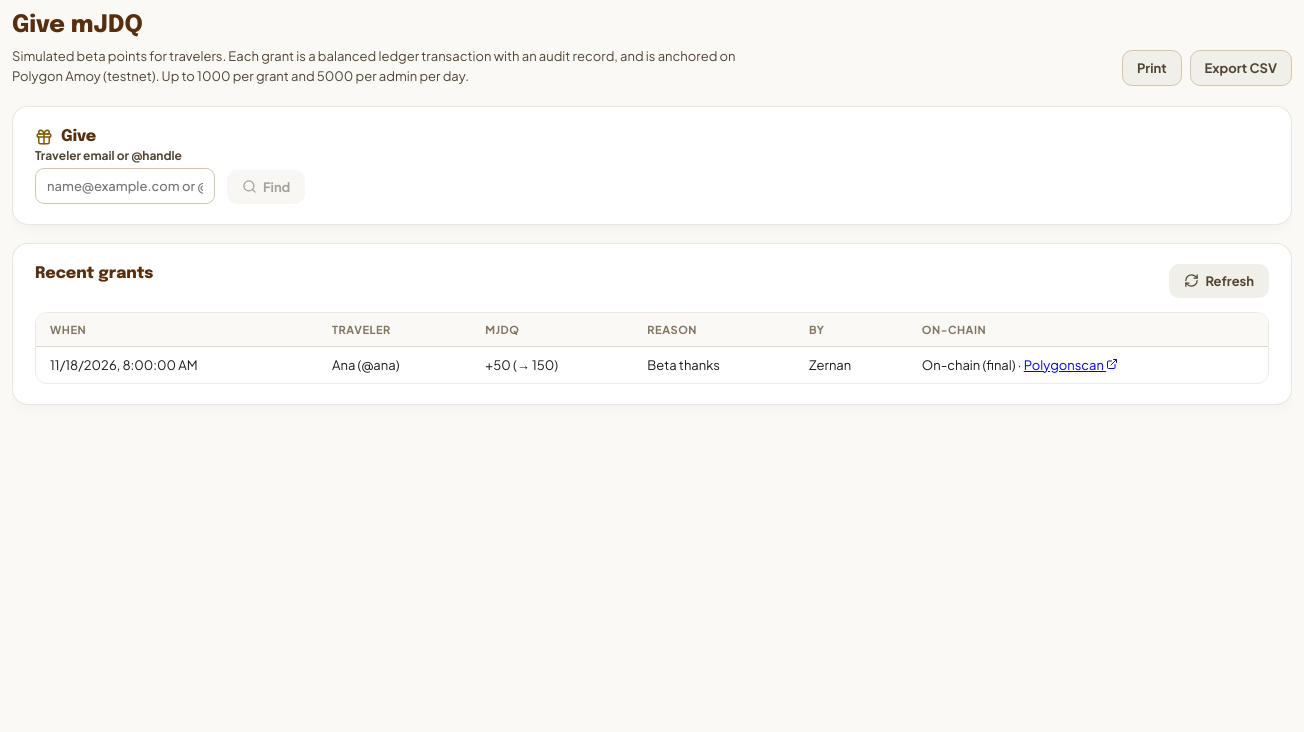
Give mJDQ › finds a traveler, validates the amount and posts the grant
Expected: the text "On-chain (final)" is shown, [922,357,1016,373]
Type "ana@example.com" into the field labelled "Traveler email or @handle".
click(125, 186); type("ana@example.com")  # box [35,168,215,204]
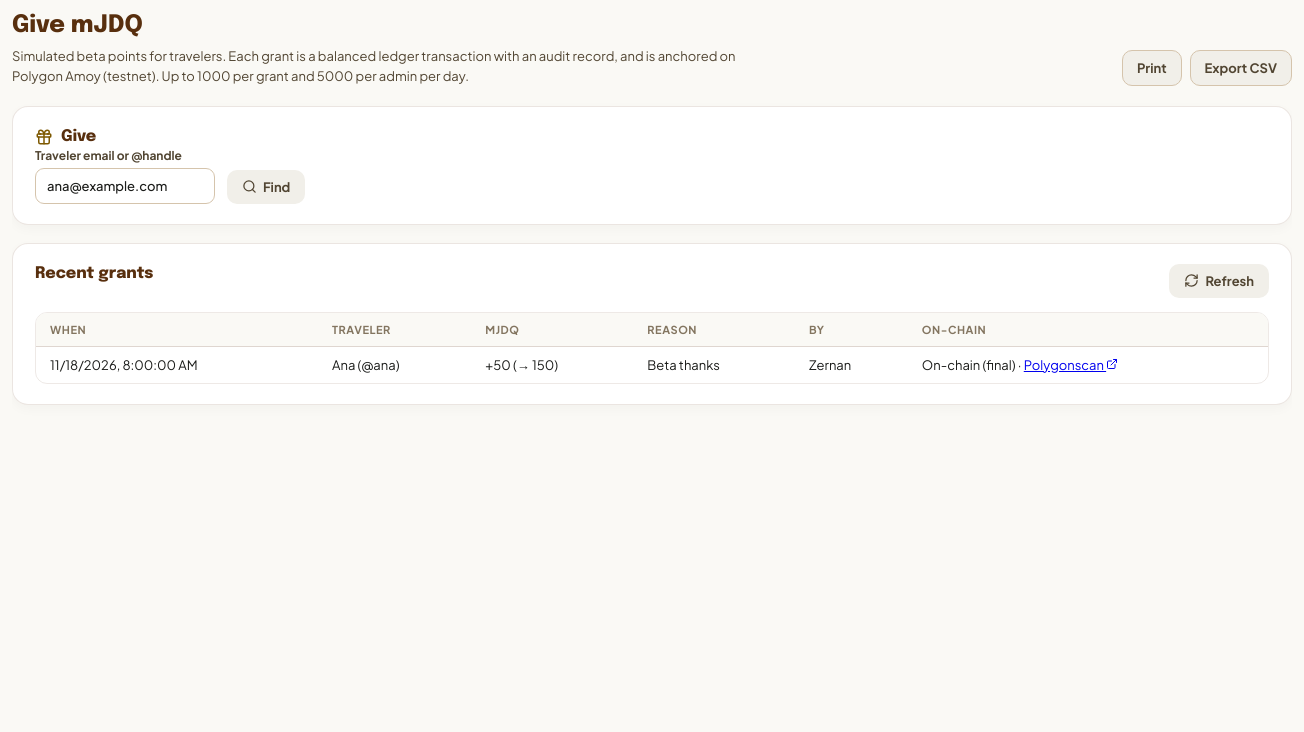
Click the button "Find".
click(266, 187)  # box [227,170,305,204]
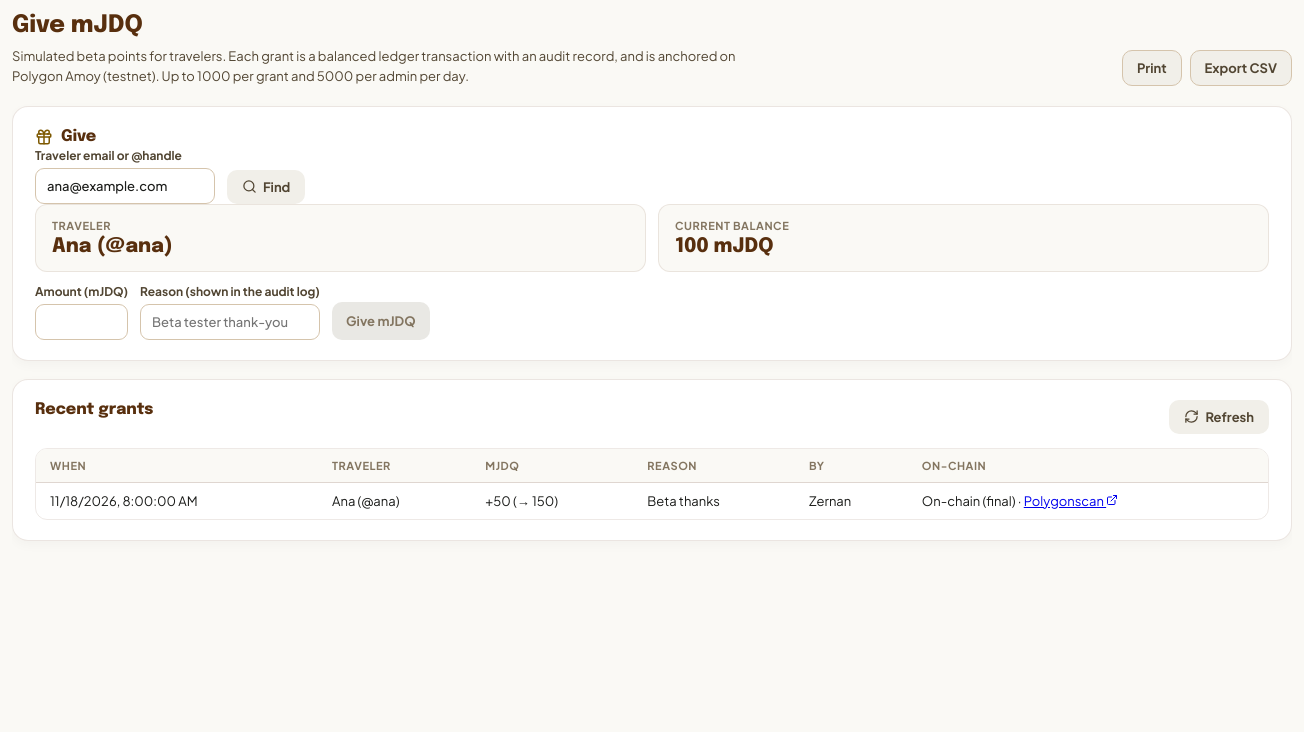
Result: the text "100 mJDQ" is shown at [675,236,774,257]
Type "5000" into the number field labelled "Amount (mJDQ)".
click(82, 322); type("5000")  # box [35,304,128,340]
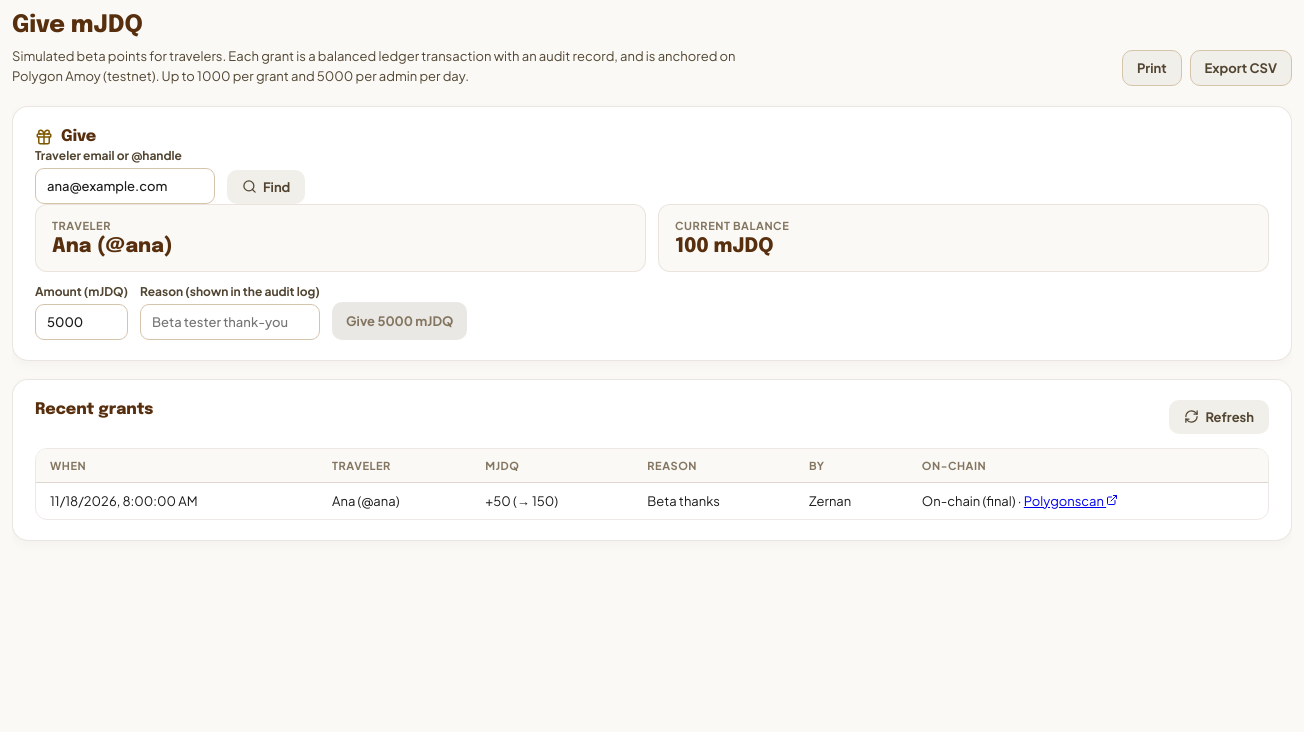
Type "Beta thanks" into the field labelled "Reason (shown in the audit log)".
click(230, 322); type("Beta thanks")  # box [140,304,320,340]
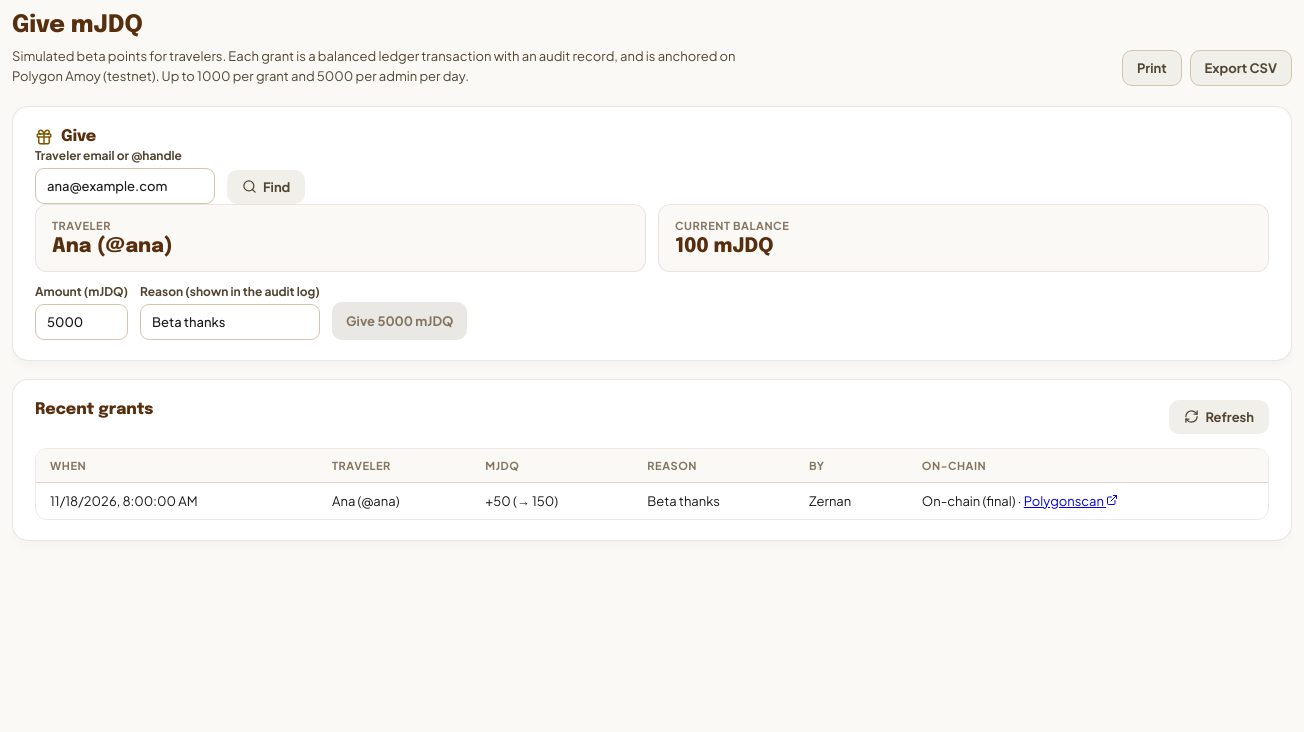
Result: the button "Give 5000 mJDQ" is disabled at [332,302,468,340]
Replace the text in the number field labelled "Amount (mJDQ)" with "50" at (82, 322), box [35,304,128,340]
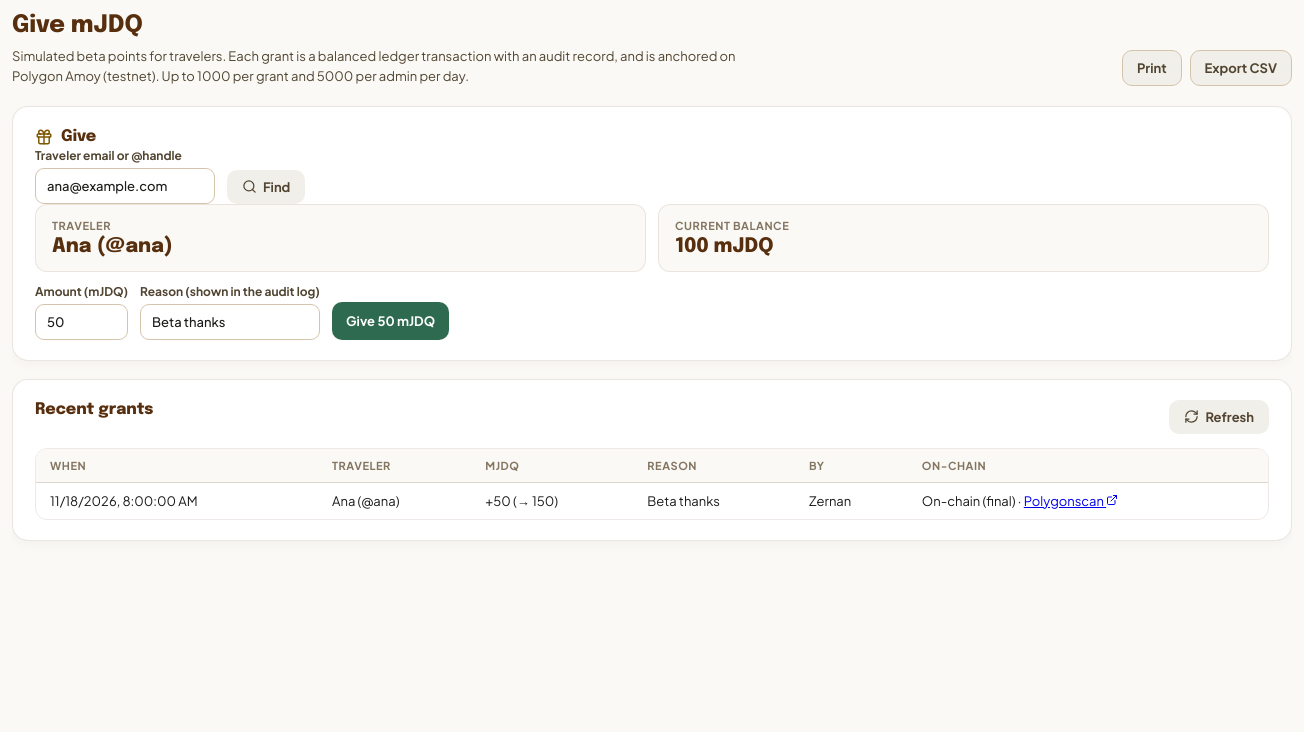
Click the button "Give 50 mJDQ".
click(391, 321)  # box [332,302,449,340]
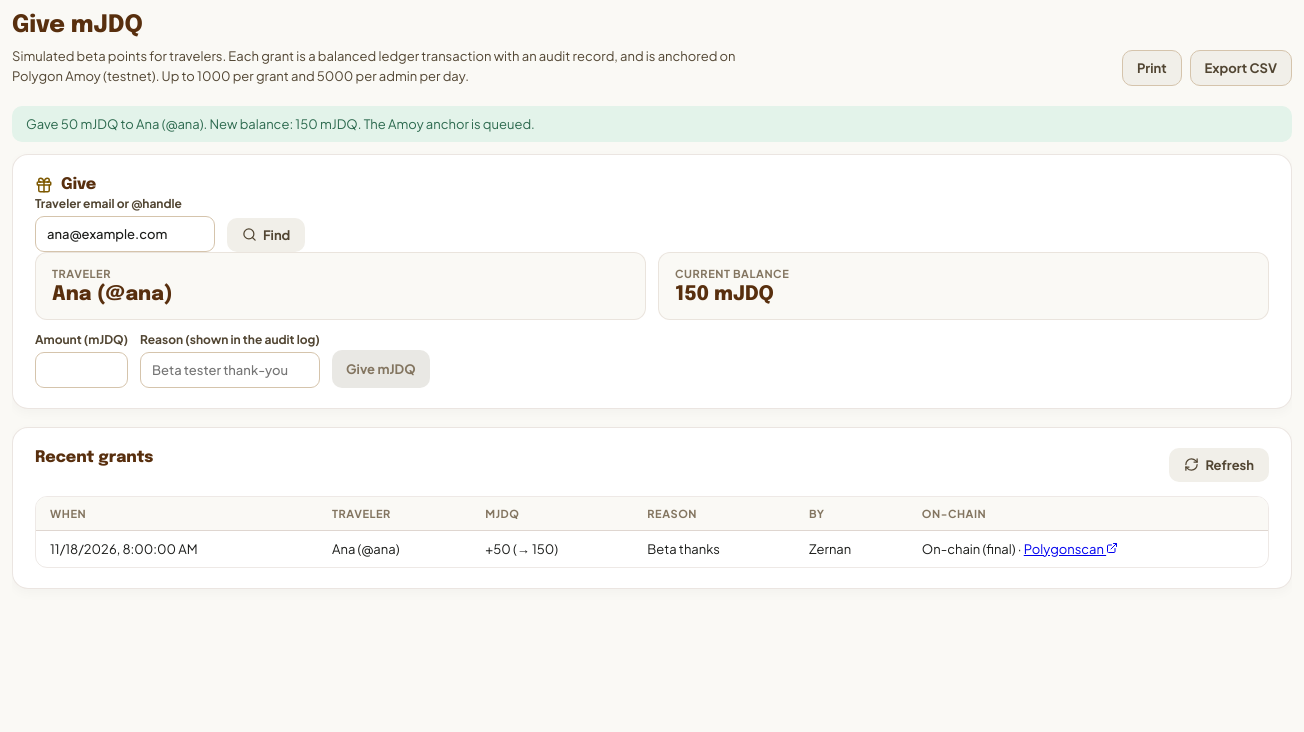
Result: the text "Gave 50 mJDQ to Ana (@ana). New balance: 150 mJDQ. The Amoy anchor is queued." is shown at [12,106,1292,142]
